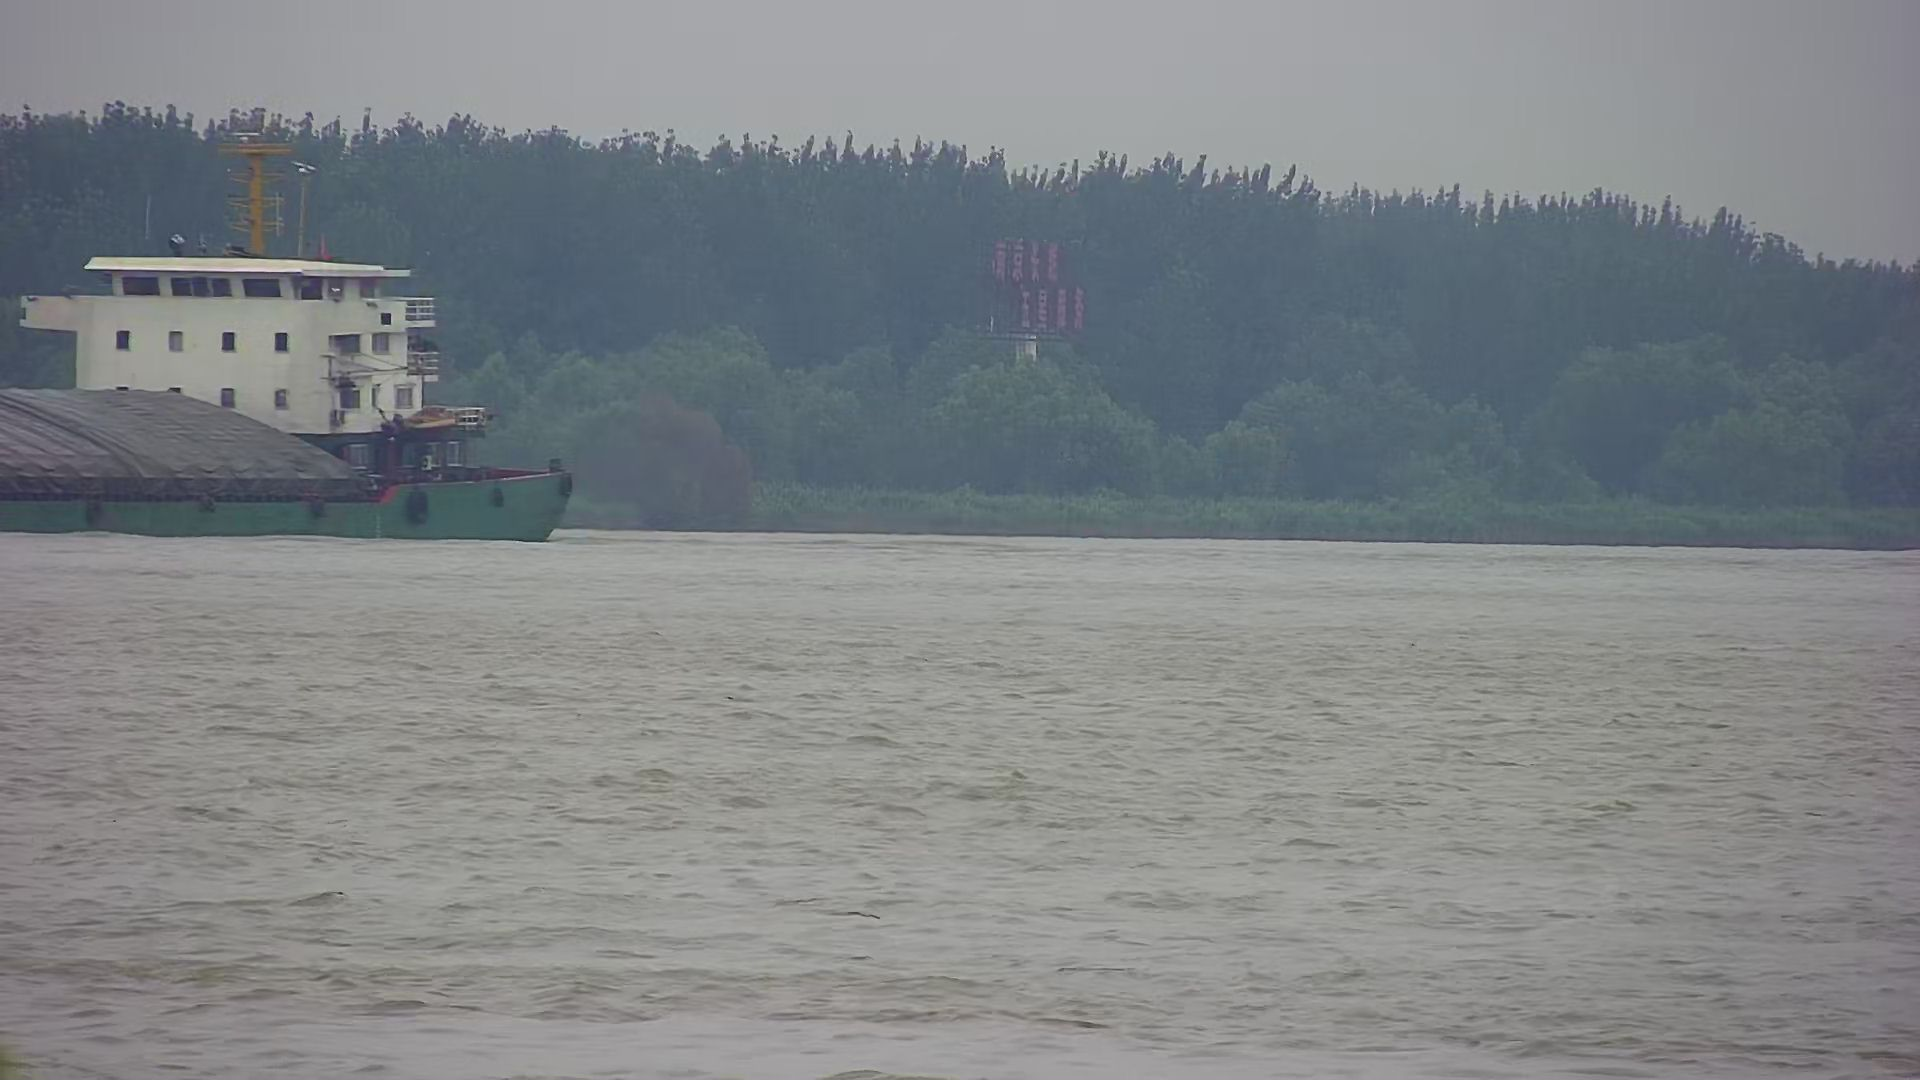ship: (1, 102, 572, 551)
